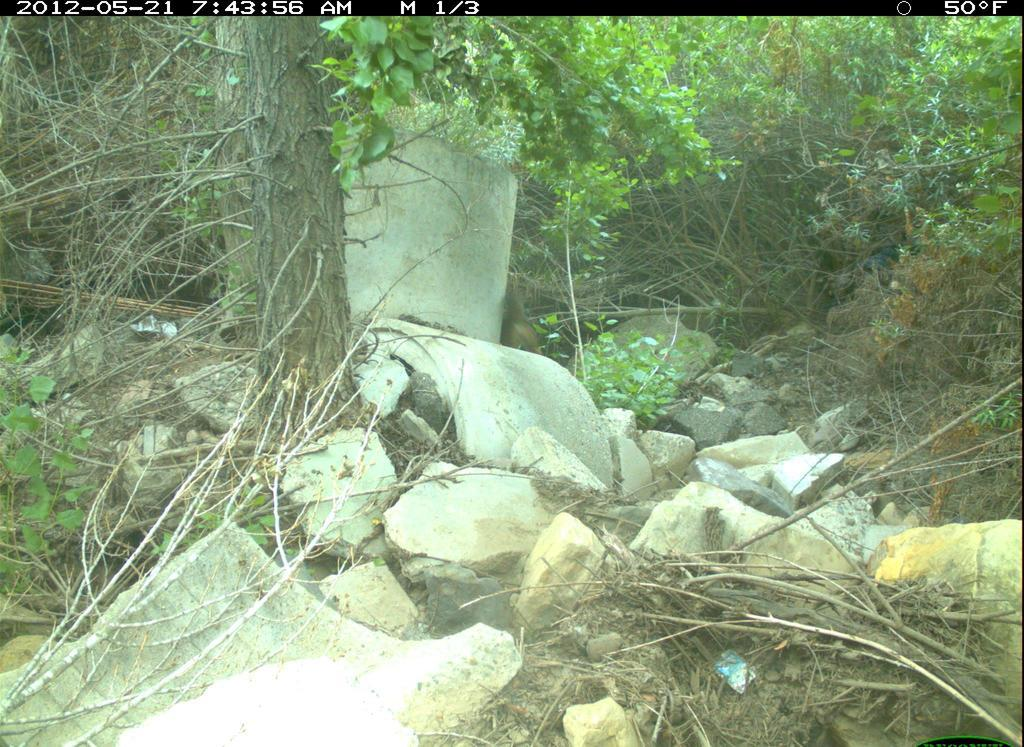coyote: (500, 285, 545, 356)
